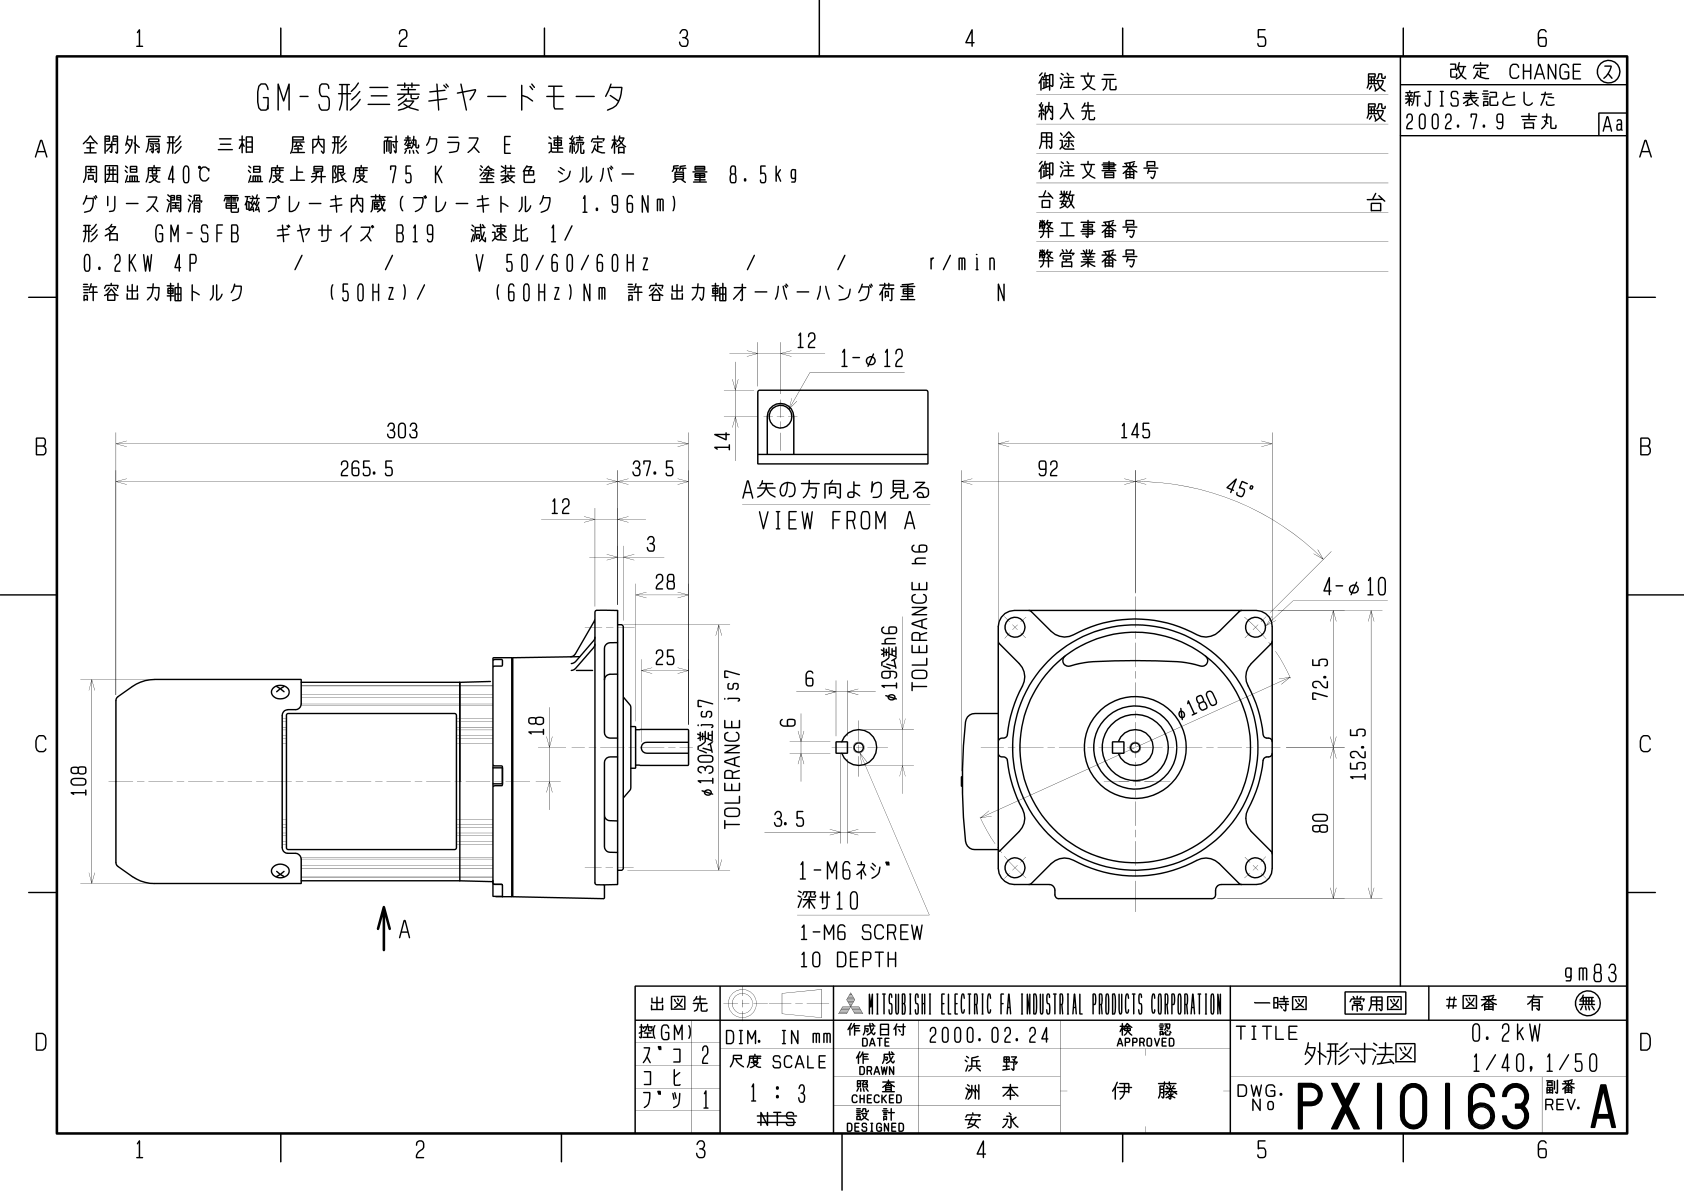GM_S_屋内＿三相_フランジ: (63, 308, 1393, 971)
